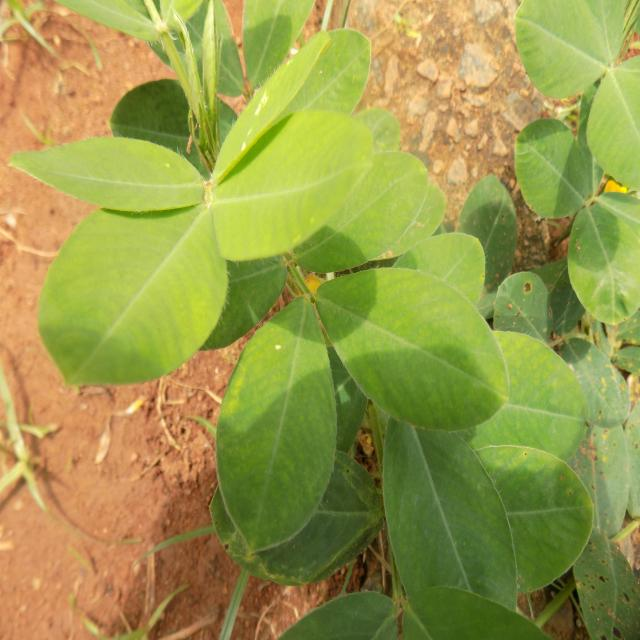Ground nut_healthy: (214, 28, 372, 257), (41, 194, 227, 386), (314, 266, 507, 430), (216, 293, 338, 552), (380, 417, 519, 628), (11, 134, 203, 212)
